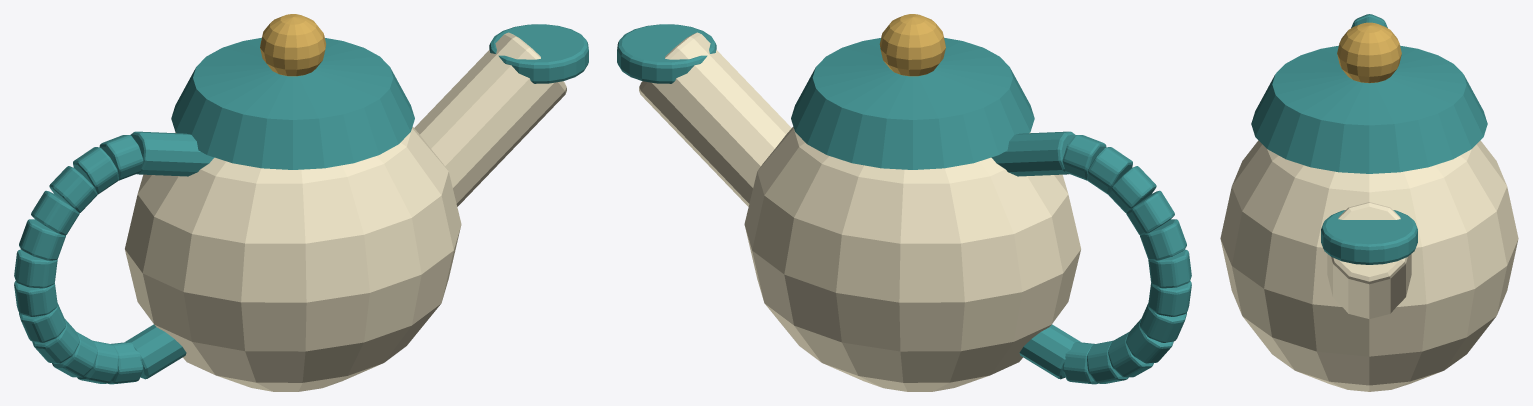
Rendered from P035_teapot.glb.
The picture shows the model from 3 angles, left to right: view 1: azimuth 30°, elevation 25°; view 2: azimuth 150°, elevation 25°; view 3: azimuth 270°, elevation 25°; orthographic projection. The views are drawn at different scales.
Parts seen in each view (by area): view 1: P035_pot_001, P035_lid_002, P035_spout_018, P035_spout_tip_019, P035_knob_003, P035_handle_anchor_016, P035_handle_anchor_017, P035_handle_008, P035_handle_005, P035_handle_006, P035_handle_007, P035_handle_009 (+7 smaller); view 2: P035_pot_001, P035_lid_002, P035_spout_018, P035_spout_tip_019, P035_knob_003, P035_handle_anchor_016, P035_handle_anchor_017, P035_handle_008, P035_handle_005, P035_handle_006, P035_handle_007, P035_handle_009 (+7 smaller); view 3: P035_pot_001, P035_lid_002, P035_spout_018, P035_spout_tip_019, P035_knob_003.
Boxes of the visible parts, box(x1,y1,x2,y2) form: P035_pot_001: box(125, 127, 461, 391); P035_lid_002: box(171, 37, 414, 169); P035_spout_018: box(414, 32, 566, 206); P035_spout_tip_019: box(489, 24, 588, 83); P035_knob_003: box(260, 14, 326, 76); P035_handle_anchor_016: box(130, 131, 214, 176); P035_handle_anchor_017: box(125, 324, 186, 379); P035_handle_008: box(19, 219, 65, 260); P035_handle_005: box(73, 147, 118, 194); P035_handle_006: box(49, 166, 97, 212); P035_handle_007: box(31, 190, 79, 235); P035_handle_009: box(14, 249, 57, 288); P035_pot_001: box(744, 127, 1080, 391); P035_lid_002: box(791, 37, 1034, 169); P035_spout_018: box(639, 32, 791, 206); P035_spout_tip_019: box(617, 24, 716, 83); P035_knob_003: box(879, 14, 945, 76); P035_handle_anchor_016: box(991, 131, 1075, 176); P035_handle_anchor_017: box(1019, 324, 1080, 379); P035_handle_008: box(1140, 219, 1186, 260); P035_handle_005: box(1087, 147, 1132, 194); P035_handle_006: box(1108, 166, 1156, 212); P035_handle_007: box(1126, 190, 1174, 235); P035_handle_009: box(1148, 249, 1191, 288); P035_pot_001: box(1220, 140, 1518, 391); P035_lid_002: box(1251, 45, 1487, 173); P035_spout_018: box(1327, 202, 1411, 319); P035_spout_tip_019: box(1321, 210, 1417, 264); P035_knob_003: box(1337, 22, 1401, 83).
Size of the model in its own units: 0.3912 by 0.238 by 0.184.
